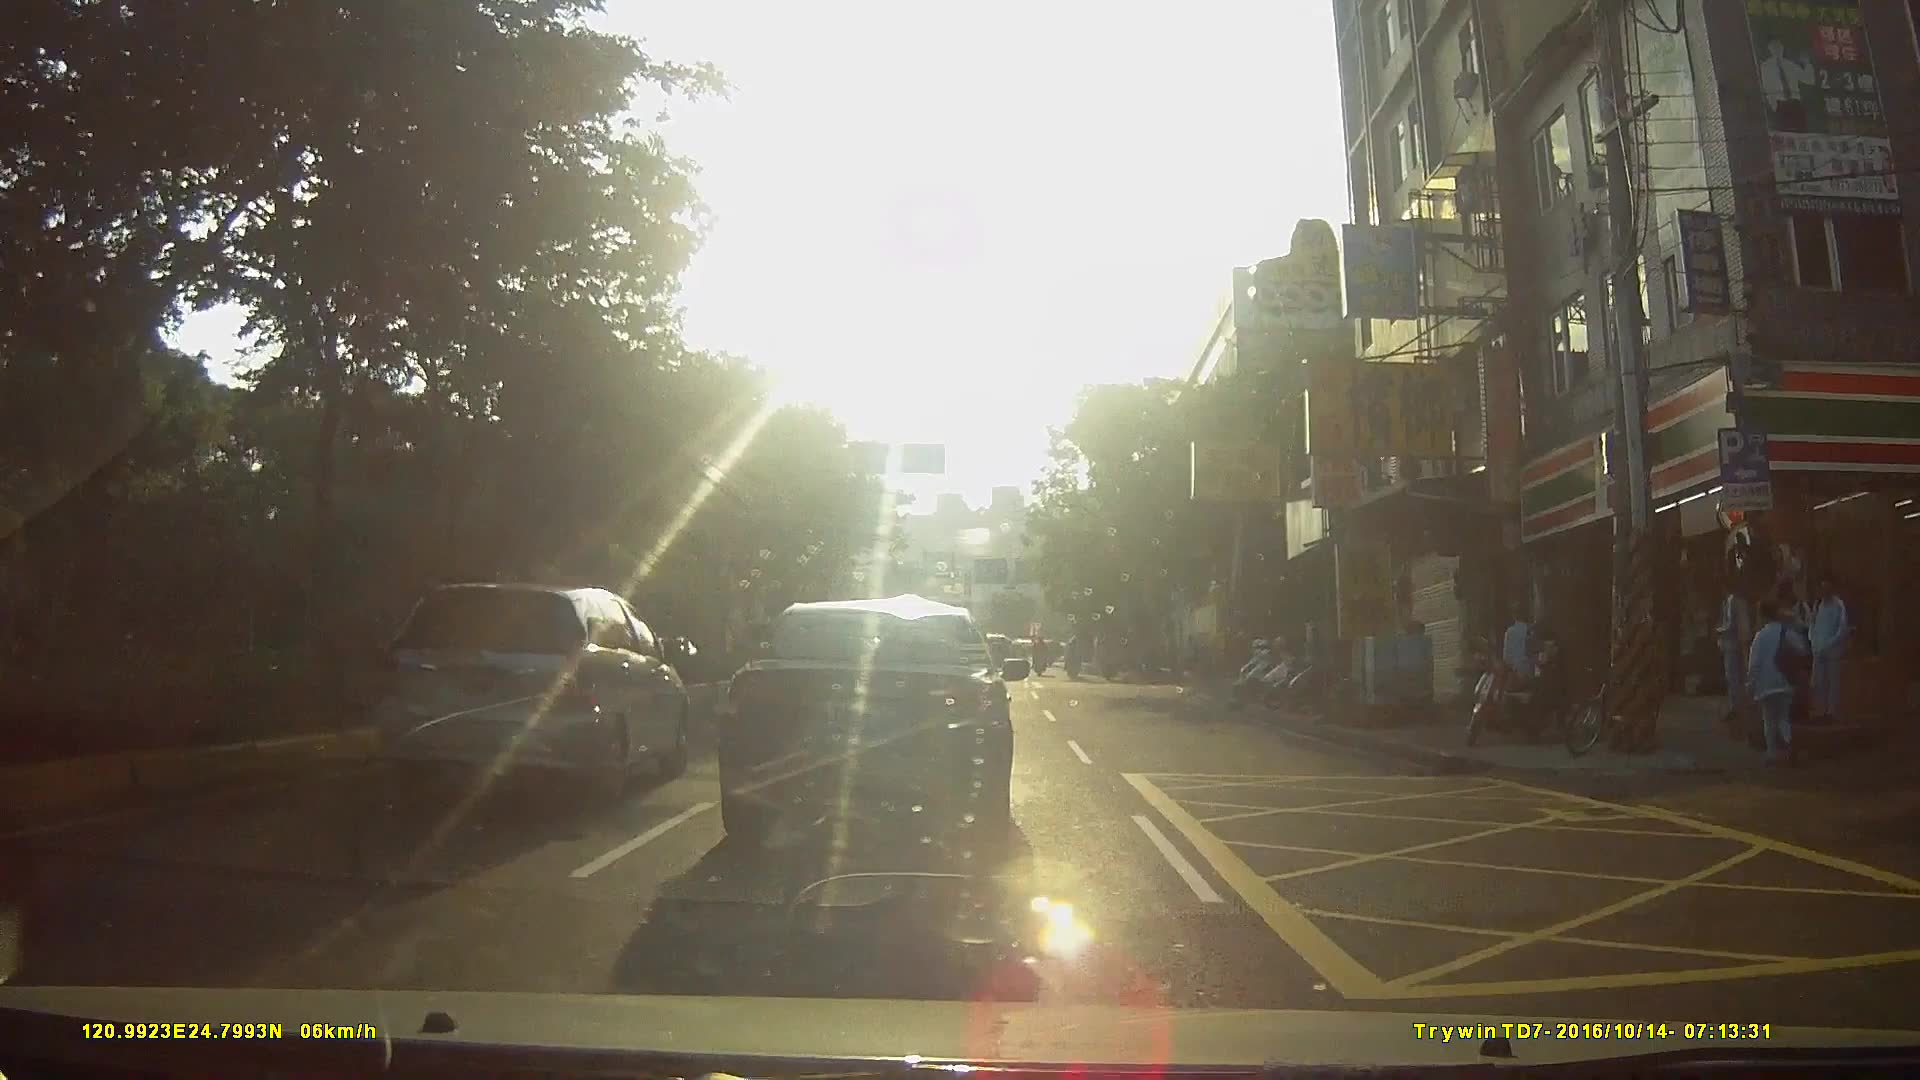pedestrian: (1748, 600, 1811, 771), (1796, 577, 1849, 725), (1714, 571, 1758, 741), (1768, 577, 1818, 723), (1526, 618, 1573, 751), (1501, 606, 1556, 718)
vehicle: (721, 600, 1042, 867), (354, 581, 714, 816)
